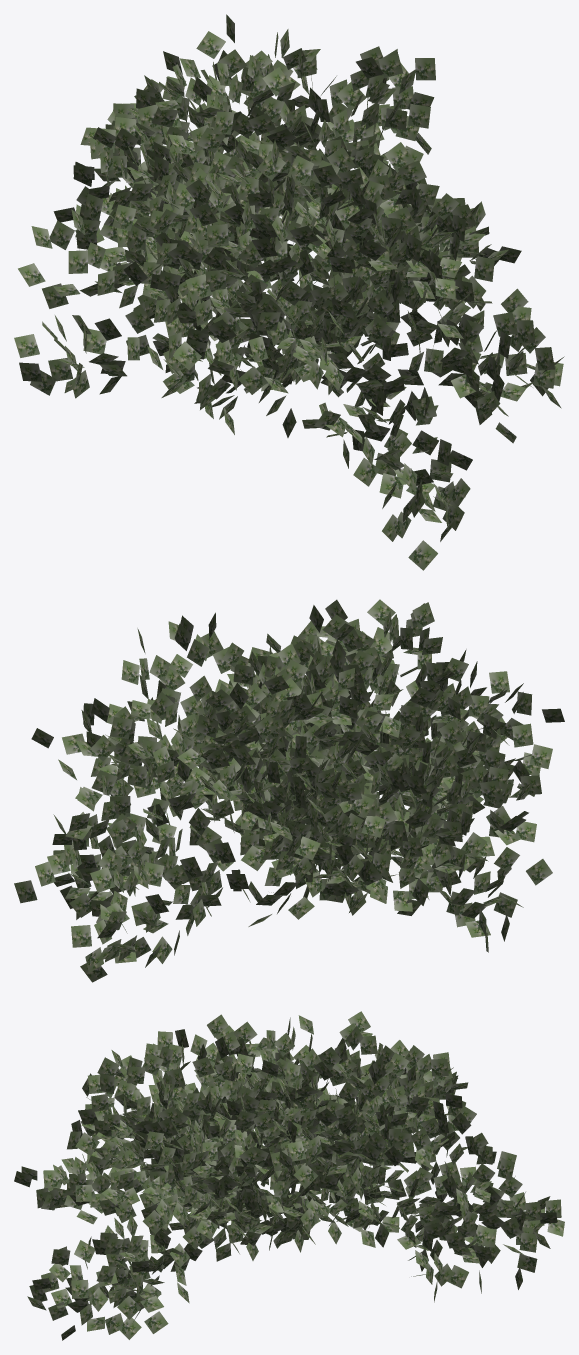
The model's file is MESH_WE17_QuercusAgrifolia_A_LOD1.fbx.
3 renders of one model, top to bottom at view 1: azimuth 30°, elevation 25°; view 2: azimuth 150°, elevation 25°; view 3: azimuth 270°, elevation 25°, orthographic. The views are drawn at different scales.
Visible parts, largest first — view 1: MI_LOD1_001; view 2: MI_LOD1_001; view 3: MI_LOD1_001.
Part boxes in pixels (left/top/right/bottom): MI_LOD1_001: left=14, top=14, right=564, bottom=570; MI_LOD1_001: left=14, top=599, right=564, bottom=982; MI_LOD1_001: left=14, top=1011, right=564, bottom=1340.
Size of what is drawn, in the model's own units: 2092 by 1692 by 2698.
